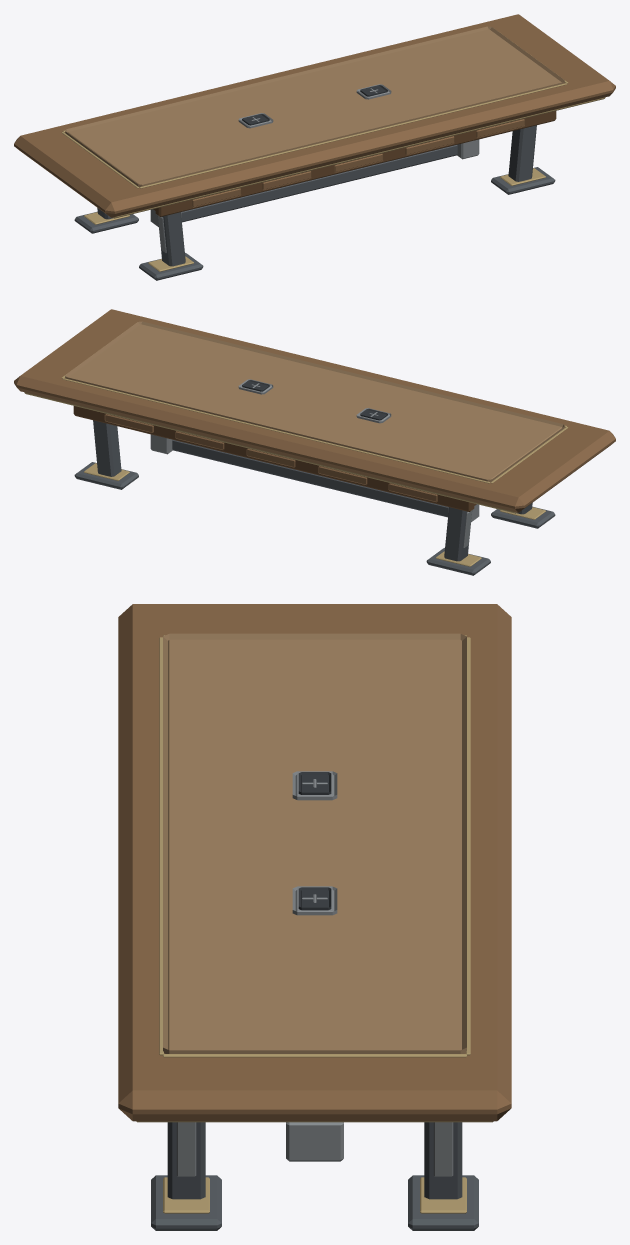
The model's file is 0-20261016-1900-ev050-r09-cfo-boardroomtable.fbx.
The picture shows the model from 3 angles, top to bottom: view 1: azimuth 30°, elevation 25°; view 2: azimuth 150°, elevation 25°; view 3: azimuth 270°, elevation 25°; orthographic projection. The views are drawn at different scales.
Visible parts, largest first — view 1: SW_Exec_BoardroomTable; view 2: SW_Exec_BoardroomTable; view 3: SW_Exec_BoardroomTable.
Part boxes in pixels (box(x1,y1,x2,y2)): SW_Exec_BoardroomTable: box(14, 14, 615, 280); SW_Exec_BoardroomTable: box(14, 309, 615, 575); SW_Exec_BoardroomTable: box(118, 604, 511, 1230).
Size of the model in its own units: 450 by 83.1 by 150.
